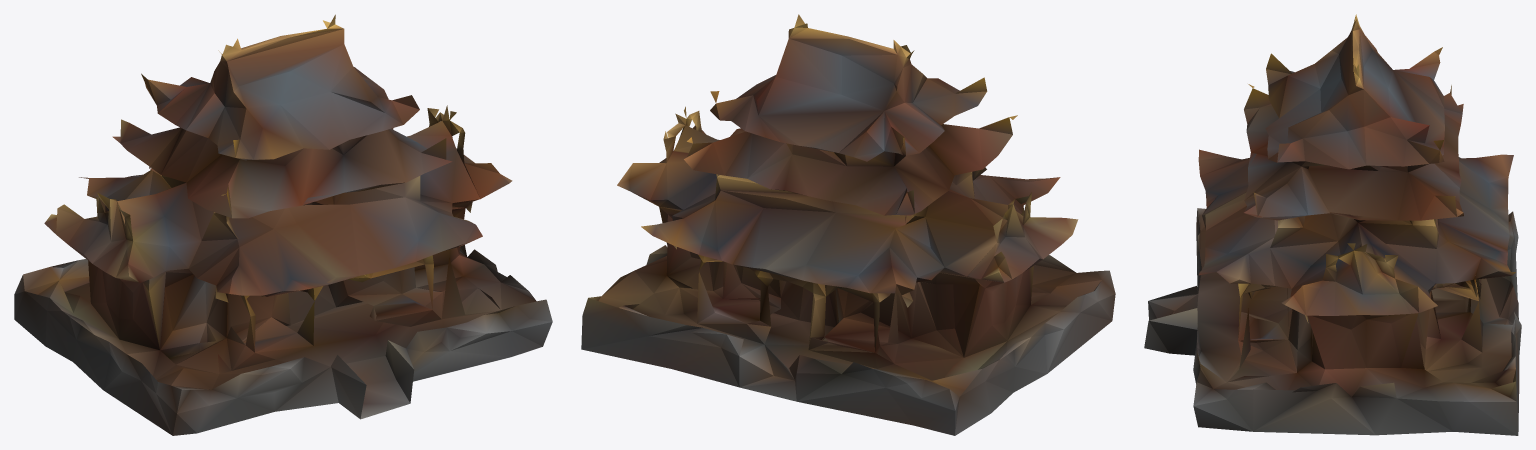
The model's file is bq_alchemy_hall.vc2.glb.
3 renders of one model, left to right at view 1: azimuth 30°, elevation 25°; view 2: azimuth 150°, elevation 25°; view 3: azimuth 270°, elevation 25°, orthographic.
Visible parts, largest first — view 1: bq_alchemy_hall; view 2: bq_alchemy_hall; view 3: bq_alchemy_hall.
Part boxes in pixels (x1=…): bq_alchemy_hall: x1=14, y1=14, x2=552, y2=435; bq_alchemy_hall: x1=581, y1=14, x2=1115, y2=435; bq_alchemy_hall: x1=1144, y1=14, x2=1521, y2=435.
Bounding box in the file's own units: 1.89 × 1.43 × 1.6.
